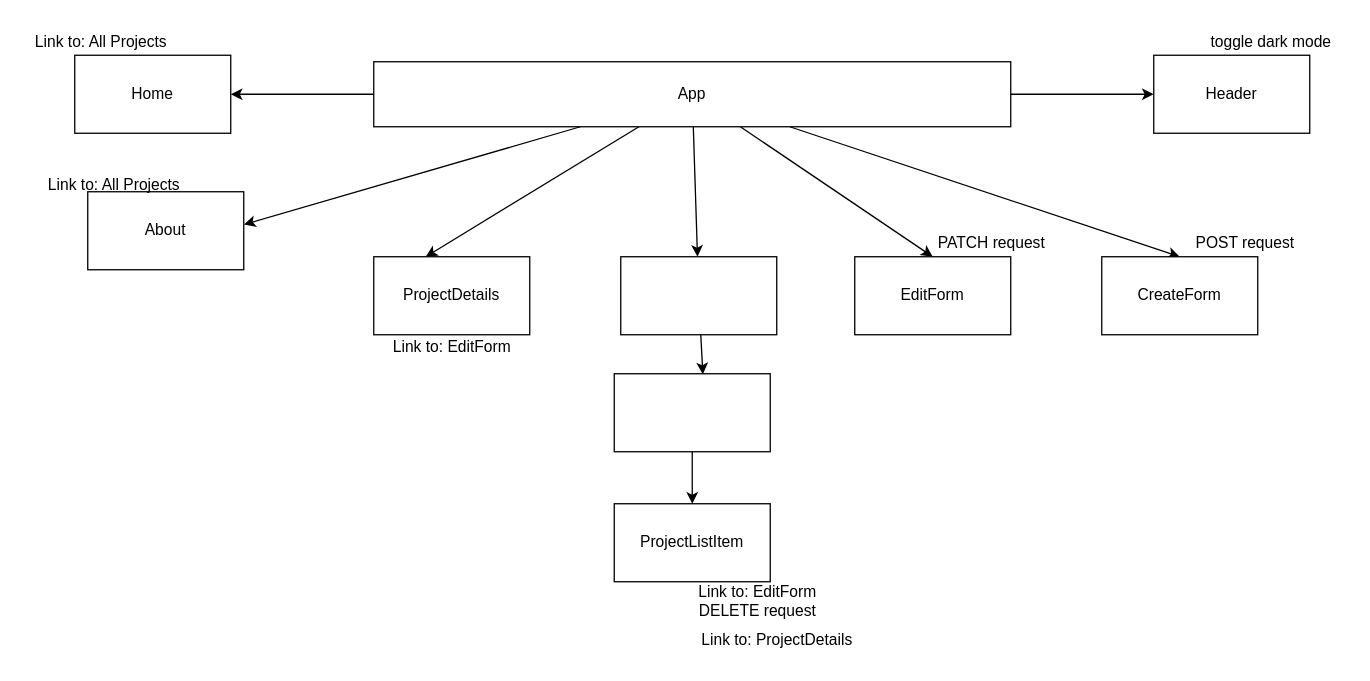
Image size: 1370x681. Some labels were removed from this diagram. The centre of each missing label's shape, as x and y in pixels:
ProjectList: [691,412]
ProjectsPage: [698,295]
